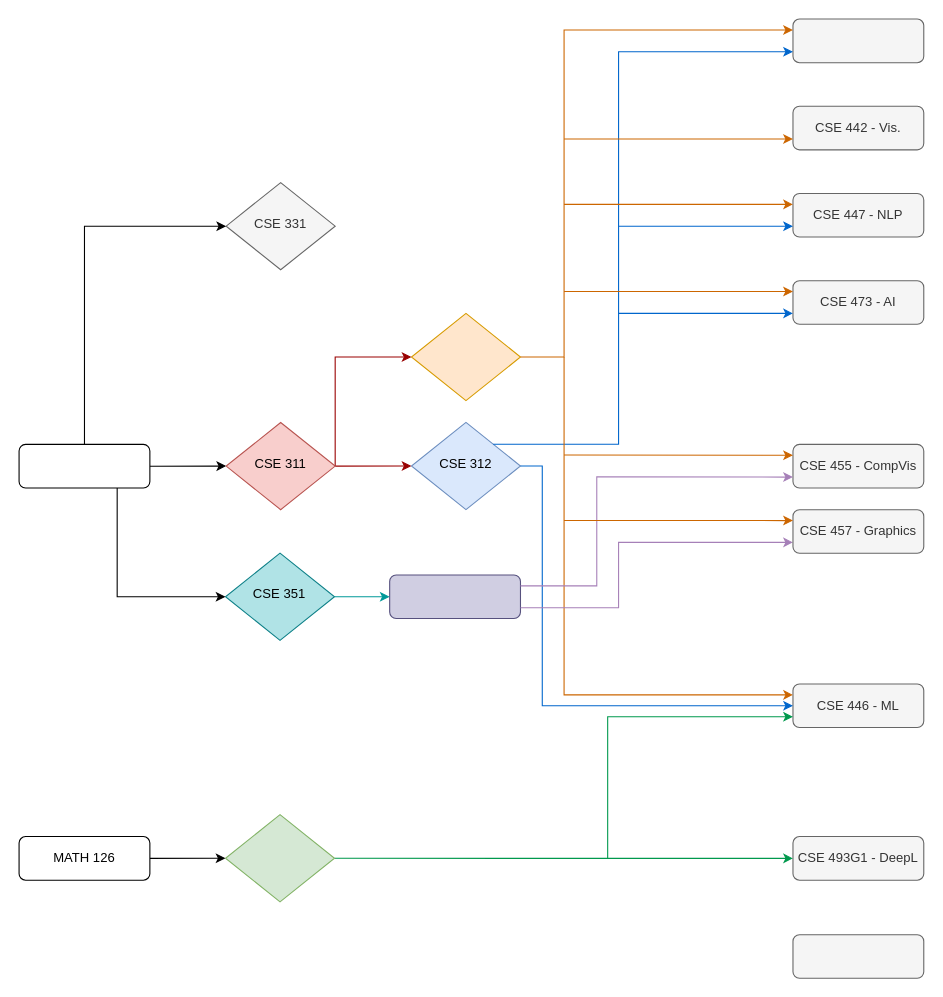
This 943x997 diagram has some shape labels left out. The shapes that lost their labels are listed below. From the top down, each one's centre as x and y in pixels, then its label:
the point at 858,40: CSE 421 - Algo
the point at 465,356: CSE 332
the point at 84,465: CSE 143
the point at 454,596: CSE 333 - Syst.
the point at 279,858: MATH 208
the point at 858,956: CSE 493S - Adv ML
